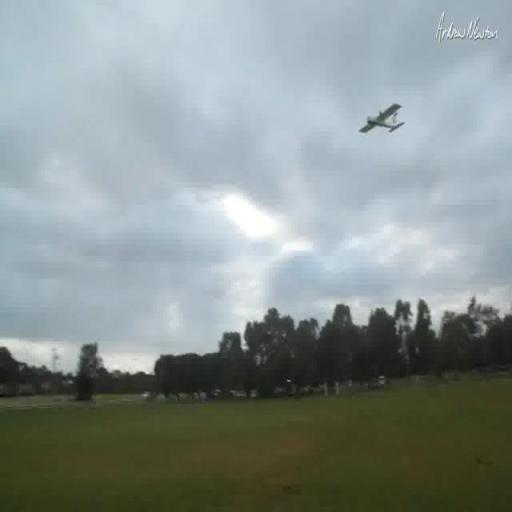uav: (352, 99, 411, 142)
